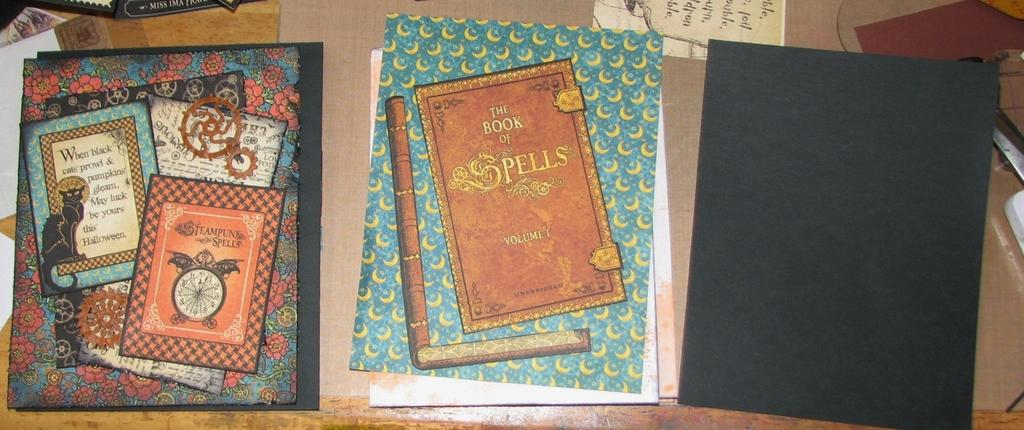book: (414, 62, 624, 334)
